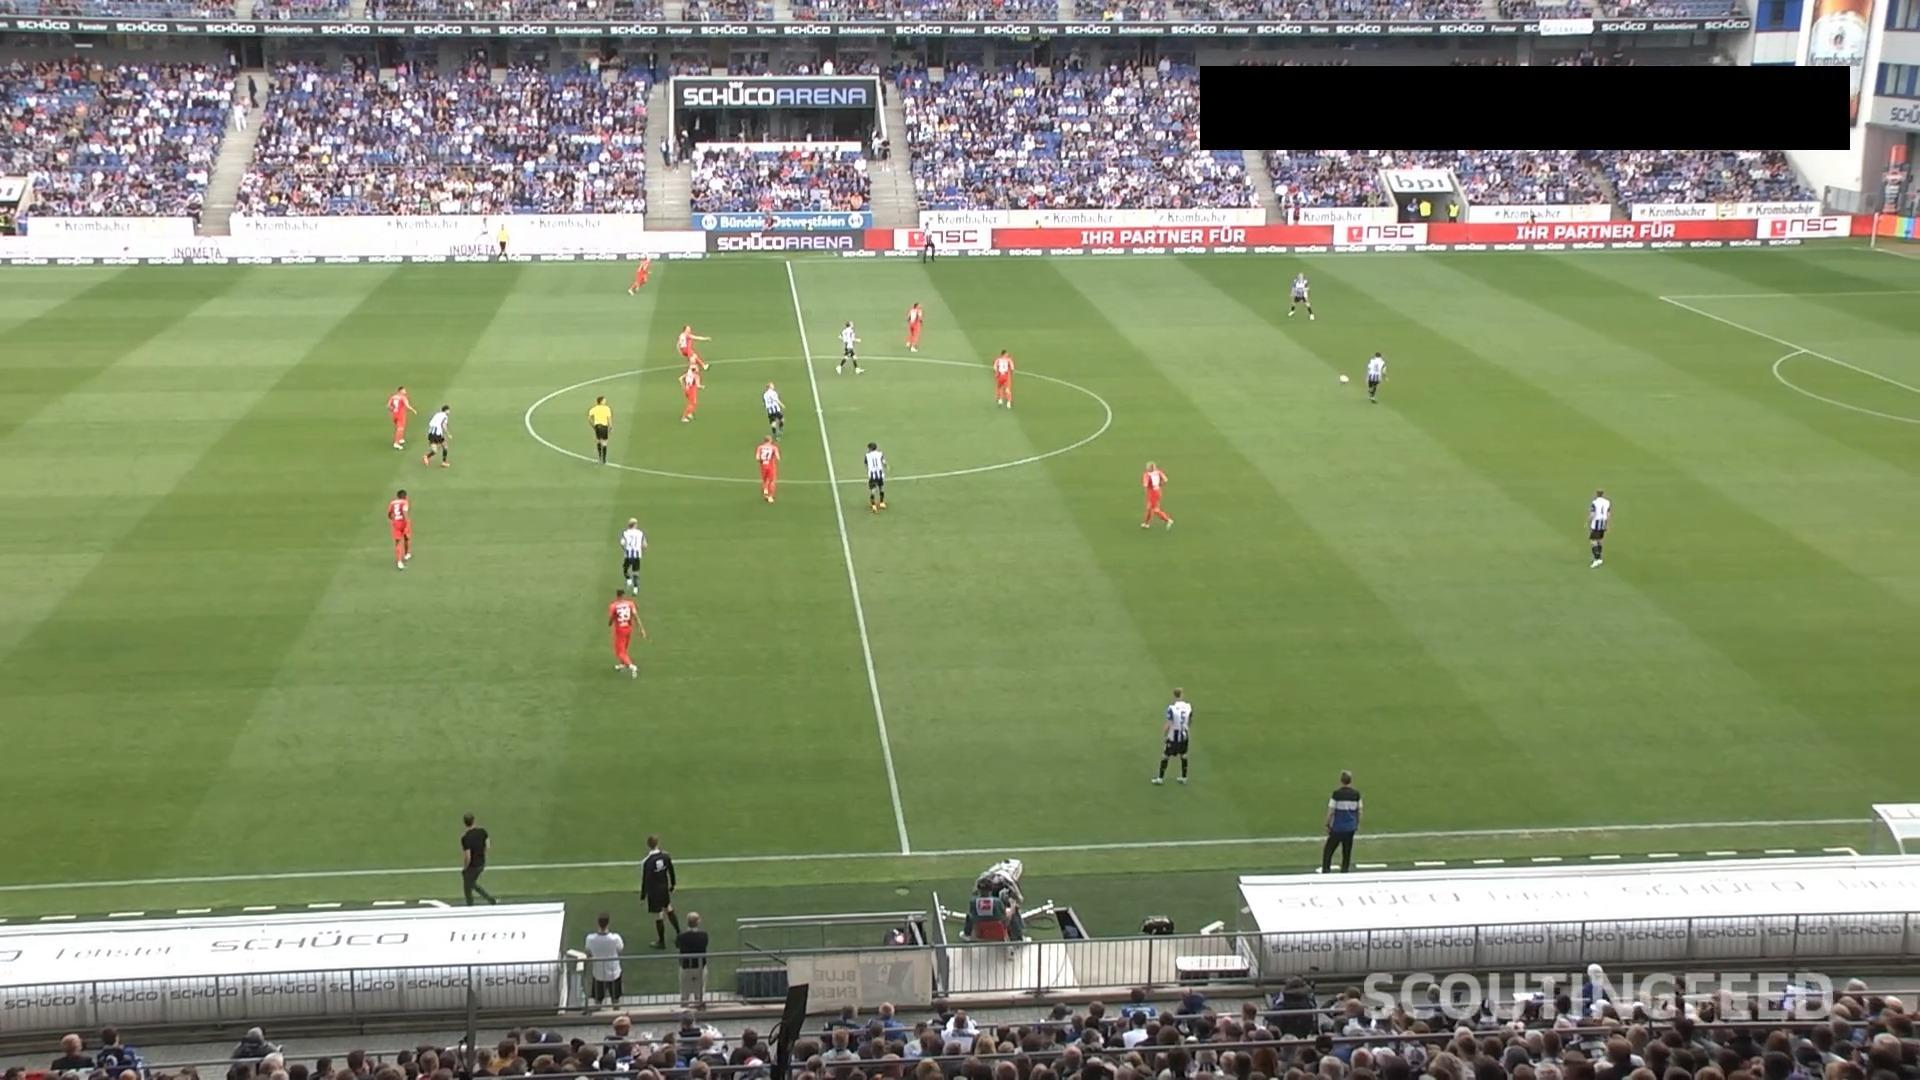ball: (1338, 373, 1349, 384)
